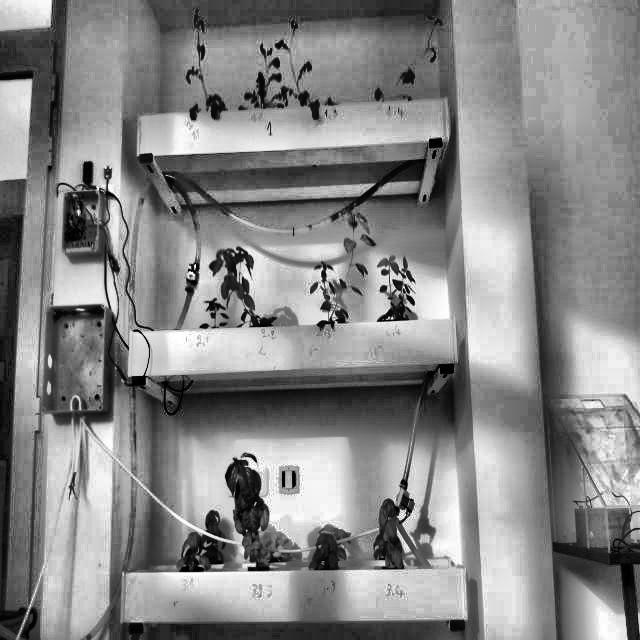plants: (308, 214, 378, 324), (372, 12, 448, 102), (225, 450, 277, 570), (270, 16, 336, 109), (208, 244, 280, 329), (181, 7, 228, 110), (232, 44, 288, 114), (373, 252, 417, 322), (307, 262, 345, 326), (374, 498, 405, 568), (307, 528, 352, 571), (199, 508, 229, 566), (176, 531, 212, 573), (198, 295, 234, 327)
